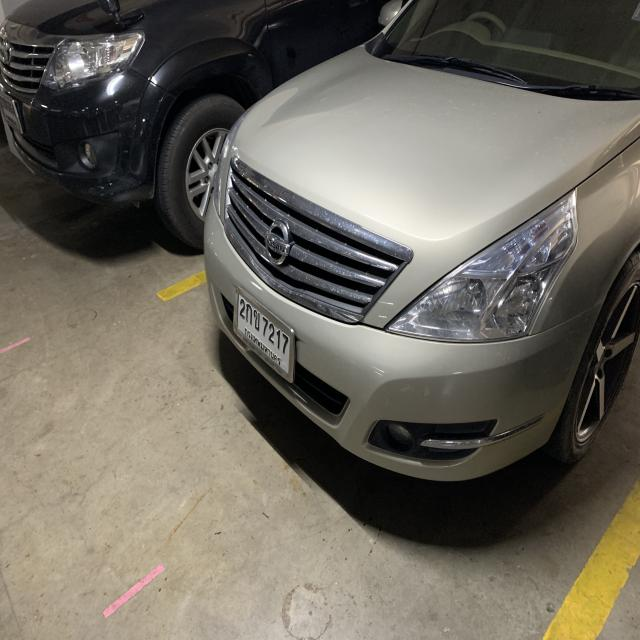license_plate: (233, 286, 298, 384), (0, 92, 23, 135)
